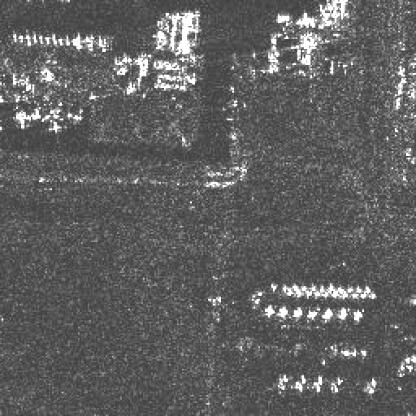airplane: (290, 283, 298, 291), (366, 292, 376, 298), (298, 284, 306, 291), (302, 290, 309, 298), (325, 284, 333, 291), (281, 284, 288, 291), (294, 289, 301, 296), (270, 283, 276, 291), (286, 288, 292, 296), (317, 284, 323, 292), (340, 291, 346, 299), (362, 286, 370, 292), (350, 292, 358, 298), (336, 286, 343, 292), (354, 286, 361, 292), (359, 291, 366, 297), (320, 291, 328, 296), (308, 286, 314, 292), (330, 291, 336, 297), (312, 291, 318, 296), (346, 286, 351, 292)
